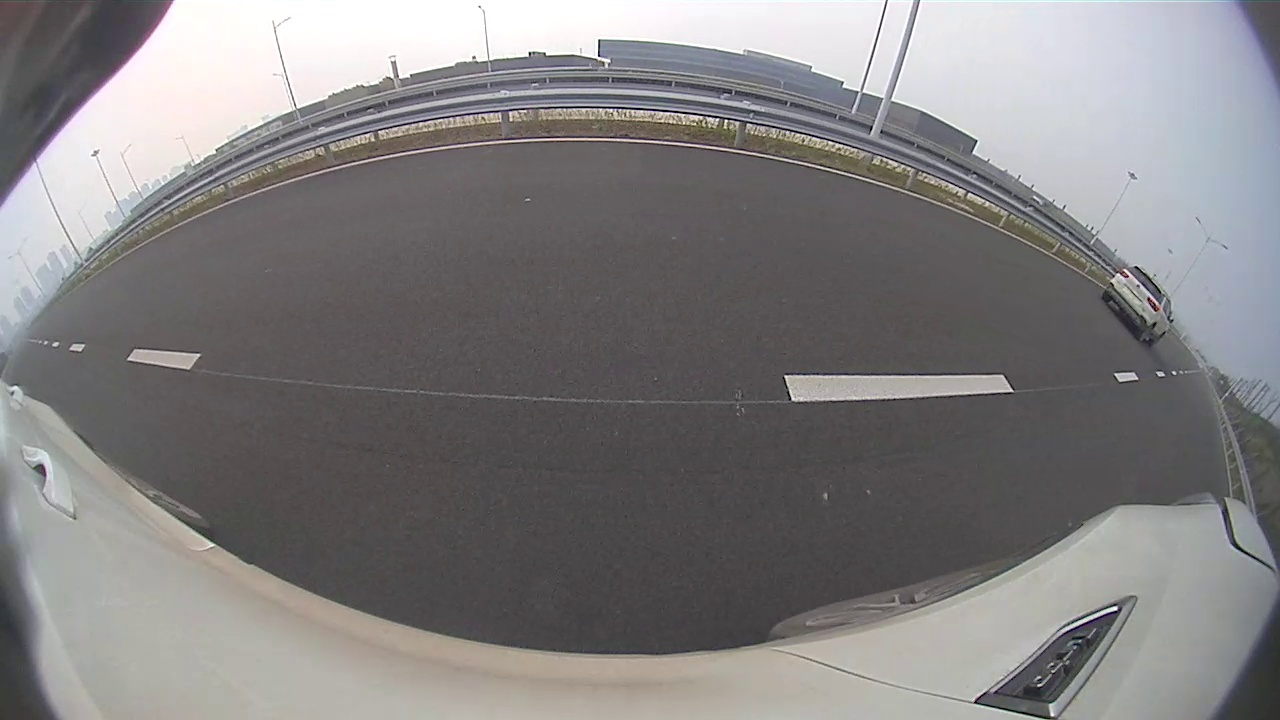car: (1102, 265, 1174, 342)
